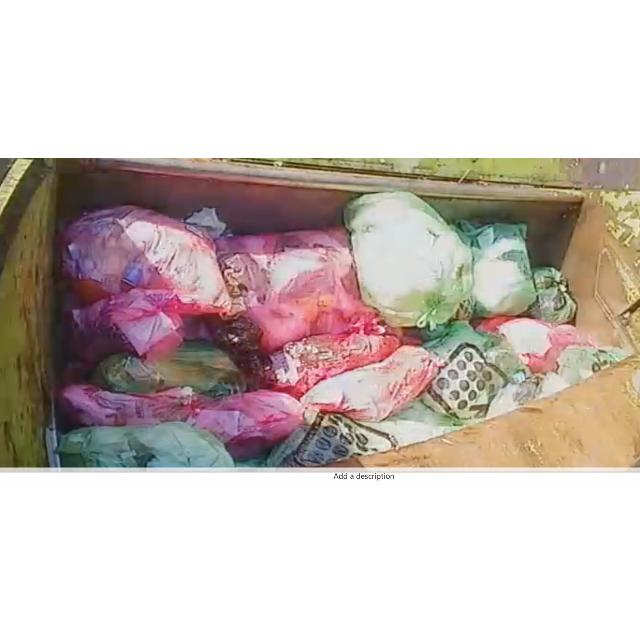general_trashbag: (344, 191, 472, 328), (268, 400, 464, 467), (421, 320, 529, 420), (91, 340, 245, 396), (59, 421, 234, 467), (456, 220, 536, 316), (522, 266, 576, 323)
other_trashbag: (216, 227, 372, 352), (62, 204, 231, 312), (300, 344, 440, 420), (71, 287, 182, 361), (194, 390, 304, 458), (60, 383, 195, 426)
